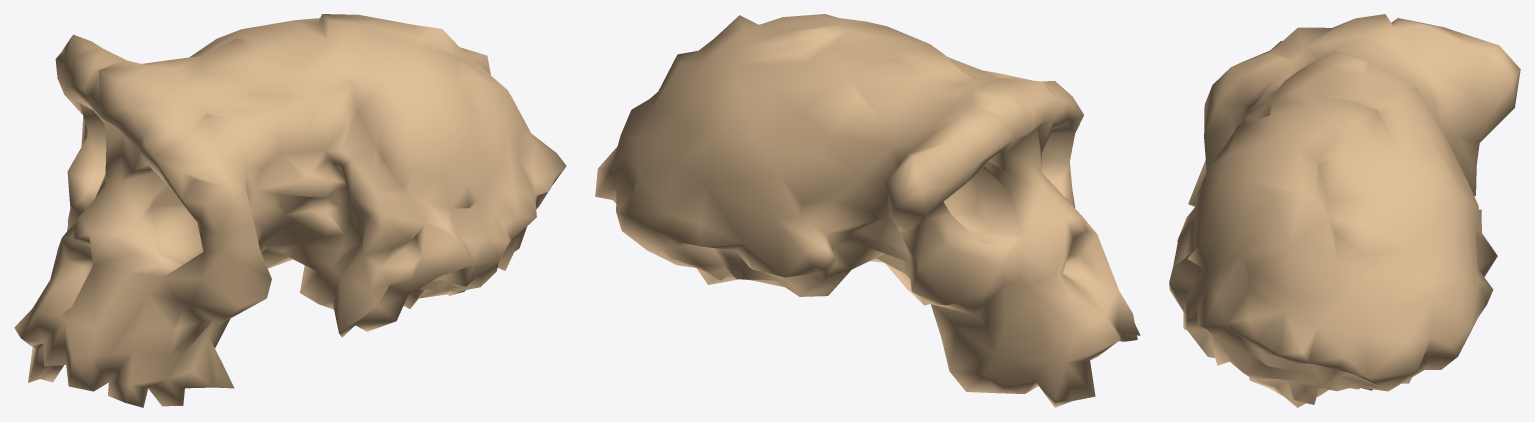
File: sahel.glb
The picture shows the model from 3 angles, left to right: view 1: azimuth 30°, elevation 25°; view 2: azimuth 150°, elevation 25°; view 3: azimuth 270°, elevation 25°; orthographic projection. The views are drawn at different scales.
Size of the model in its own units: 0.1806 by 0.1025 by 0.1099.
